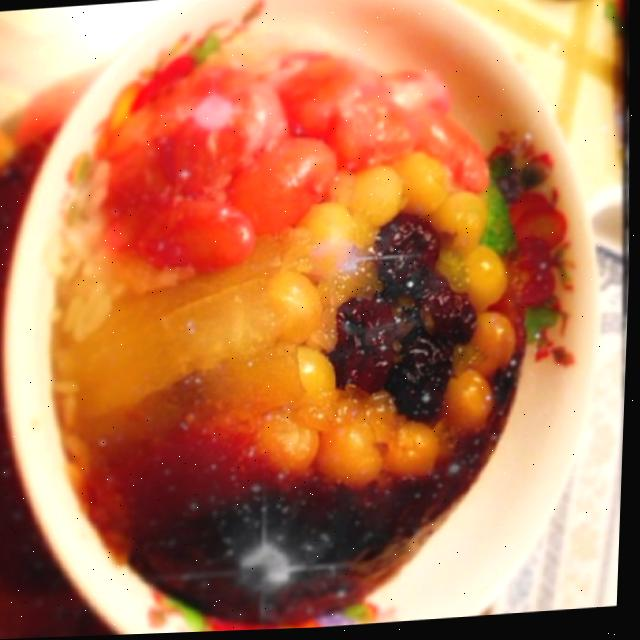米饭主食: (2, 0, 585, 639)
